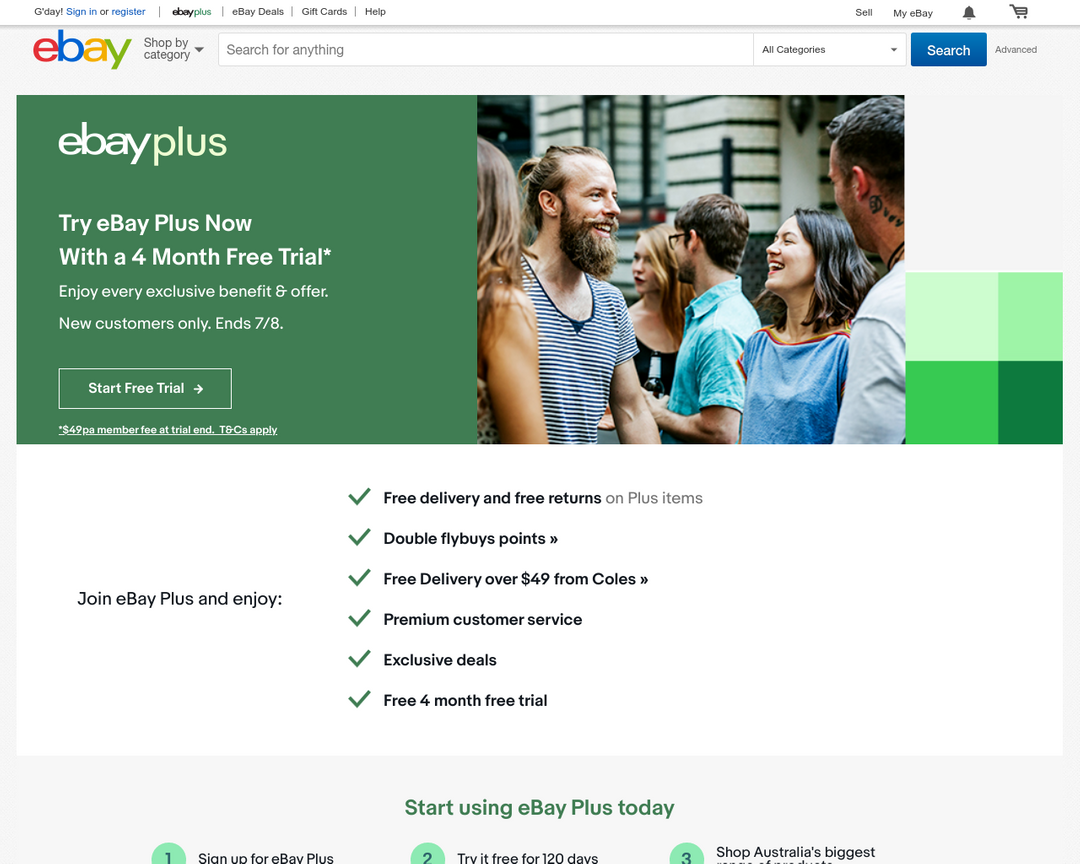Ebay: (31, 27, 135, 73)
